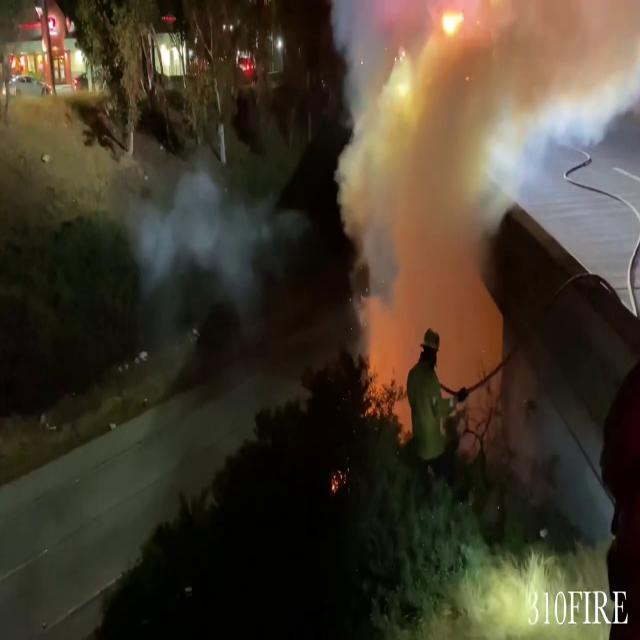Smoke: (325, 1, 563, 452), (119, 139, 288, 334)
